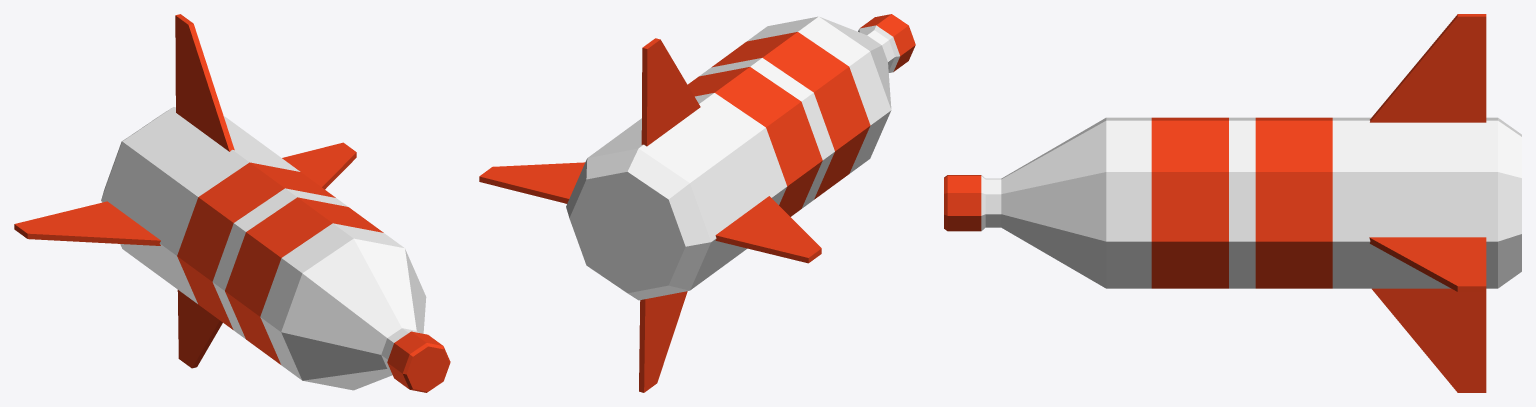
File: PetBottle_Rocket_Red_2.fbx
3 views of the same model, side by side, from view 1: azimuth 30°, elevation 25°; view 2: azimuth 150°, elevation 25°; view 3: azimuth 270°, elevation 25° (orthographic). The views are drawn at different scales.
Visible parts, largest first — view 1: PetBottle1; view 2: PetBottle1; view 3: PetBottle1.
Part boxes in pixels (box(x1,y1,x2,y2)): PetBottle1: box(14, 14, 450, 392); PetBottle1: box(479, 14, 915, 392); PetBottle1: box(944, 14, 1521, 392).
Bounding box in the file's own units: 31.75 × 31.75 × 44.4.
1 material, 1 textured.
